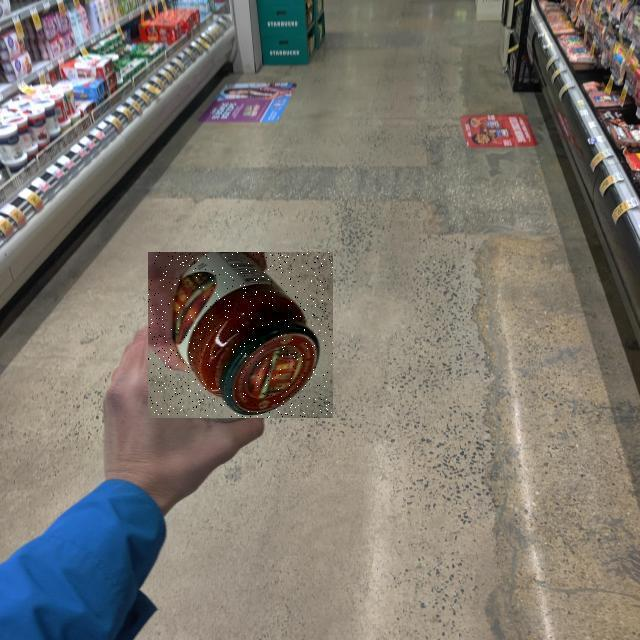Sauce: (148, 252, 333, 418)
